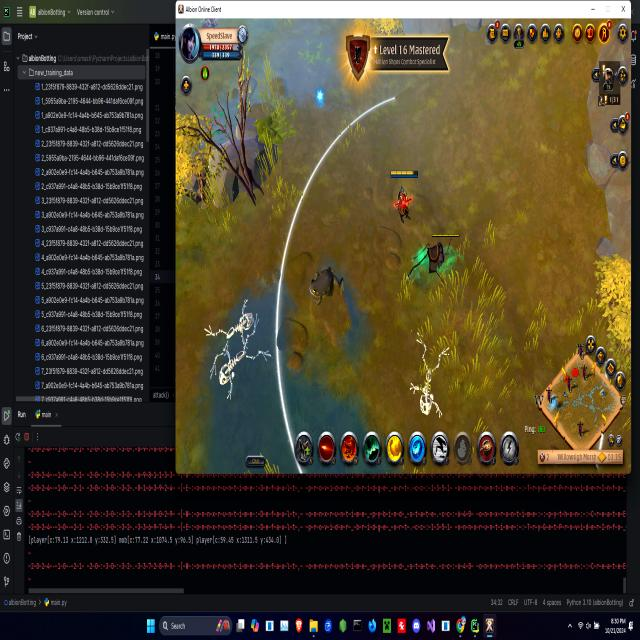ore: (305, 262, 348, 308)
red: (388, 165, 423, 228)
